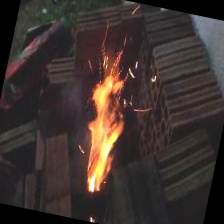fire: (55, 47, 165, 215)
